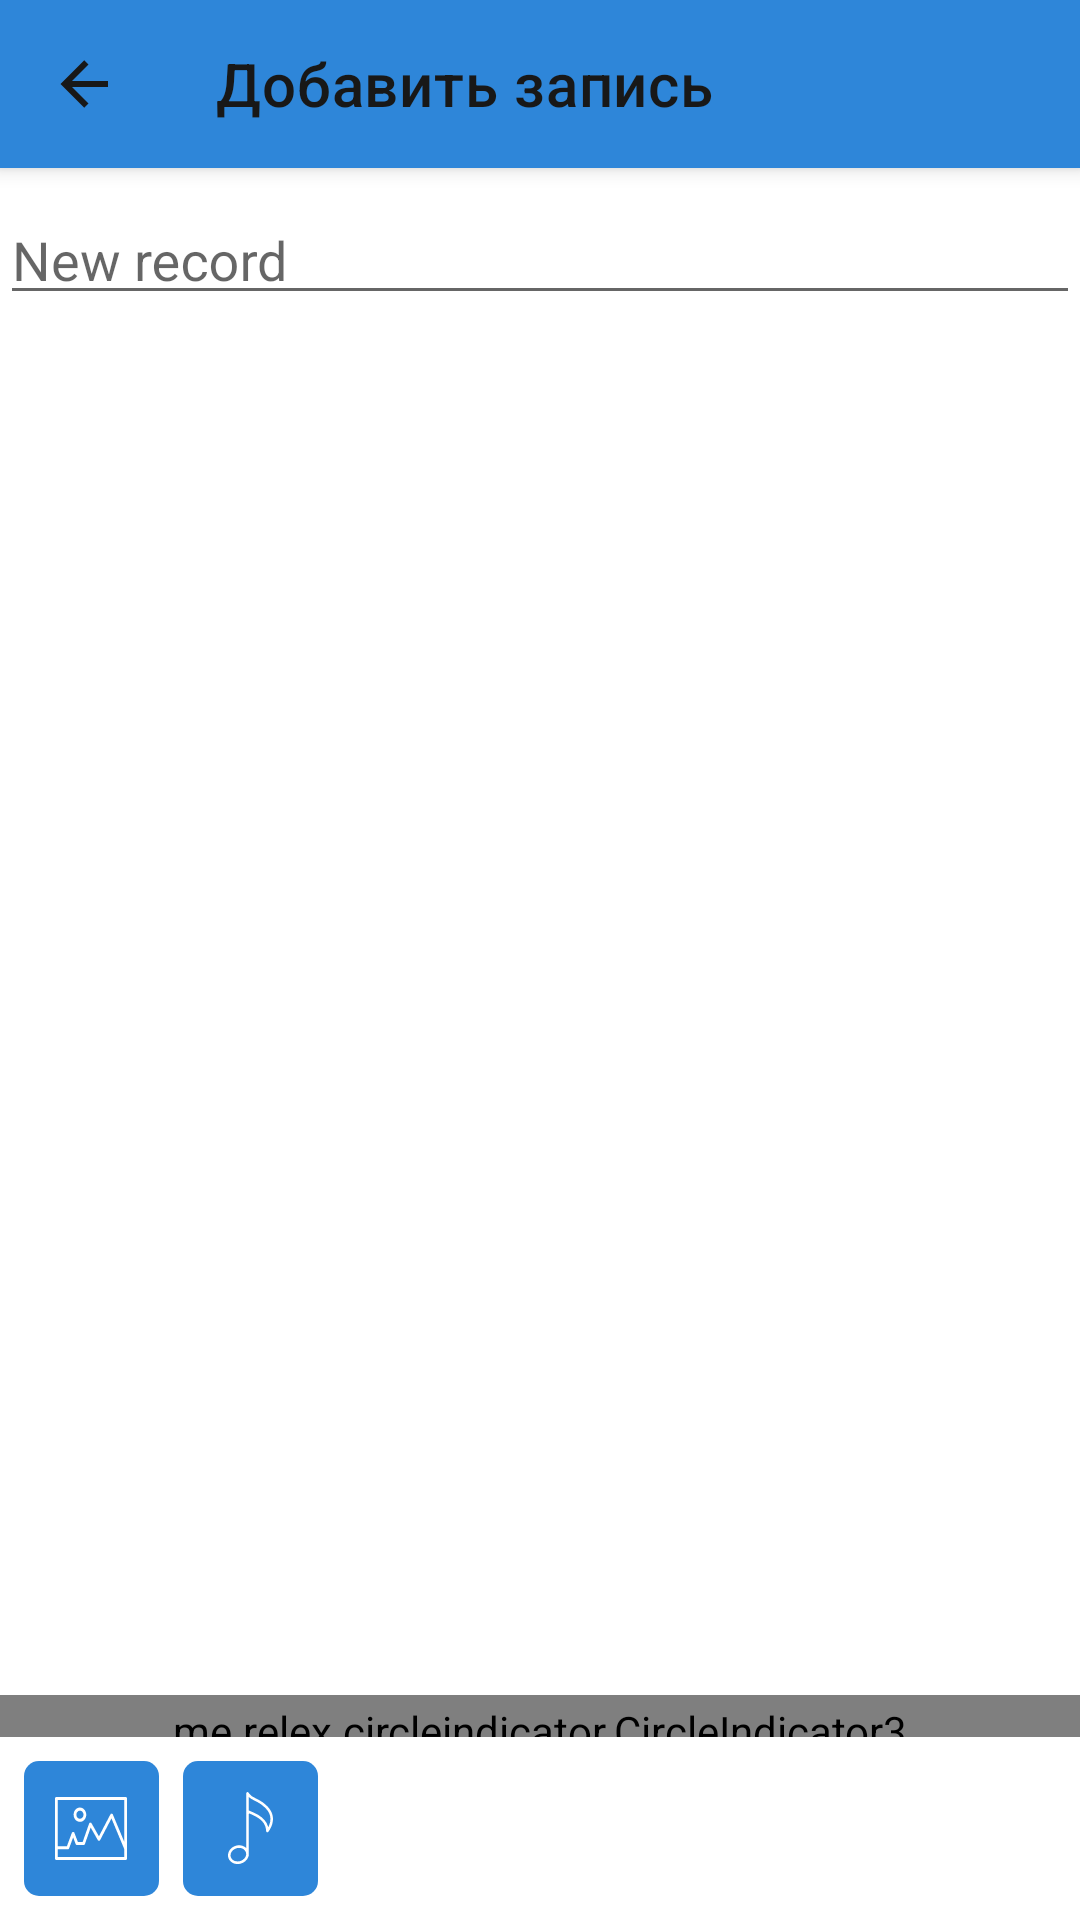

Icons on this 1080px×1920px Android screen, each with the point to tap as [x,y]:
song: [250,1828]
